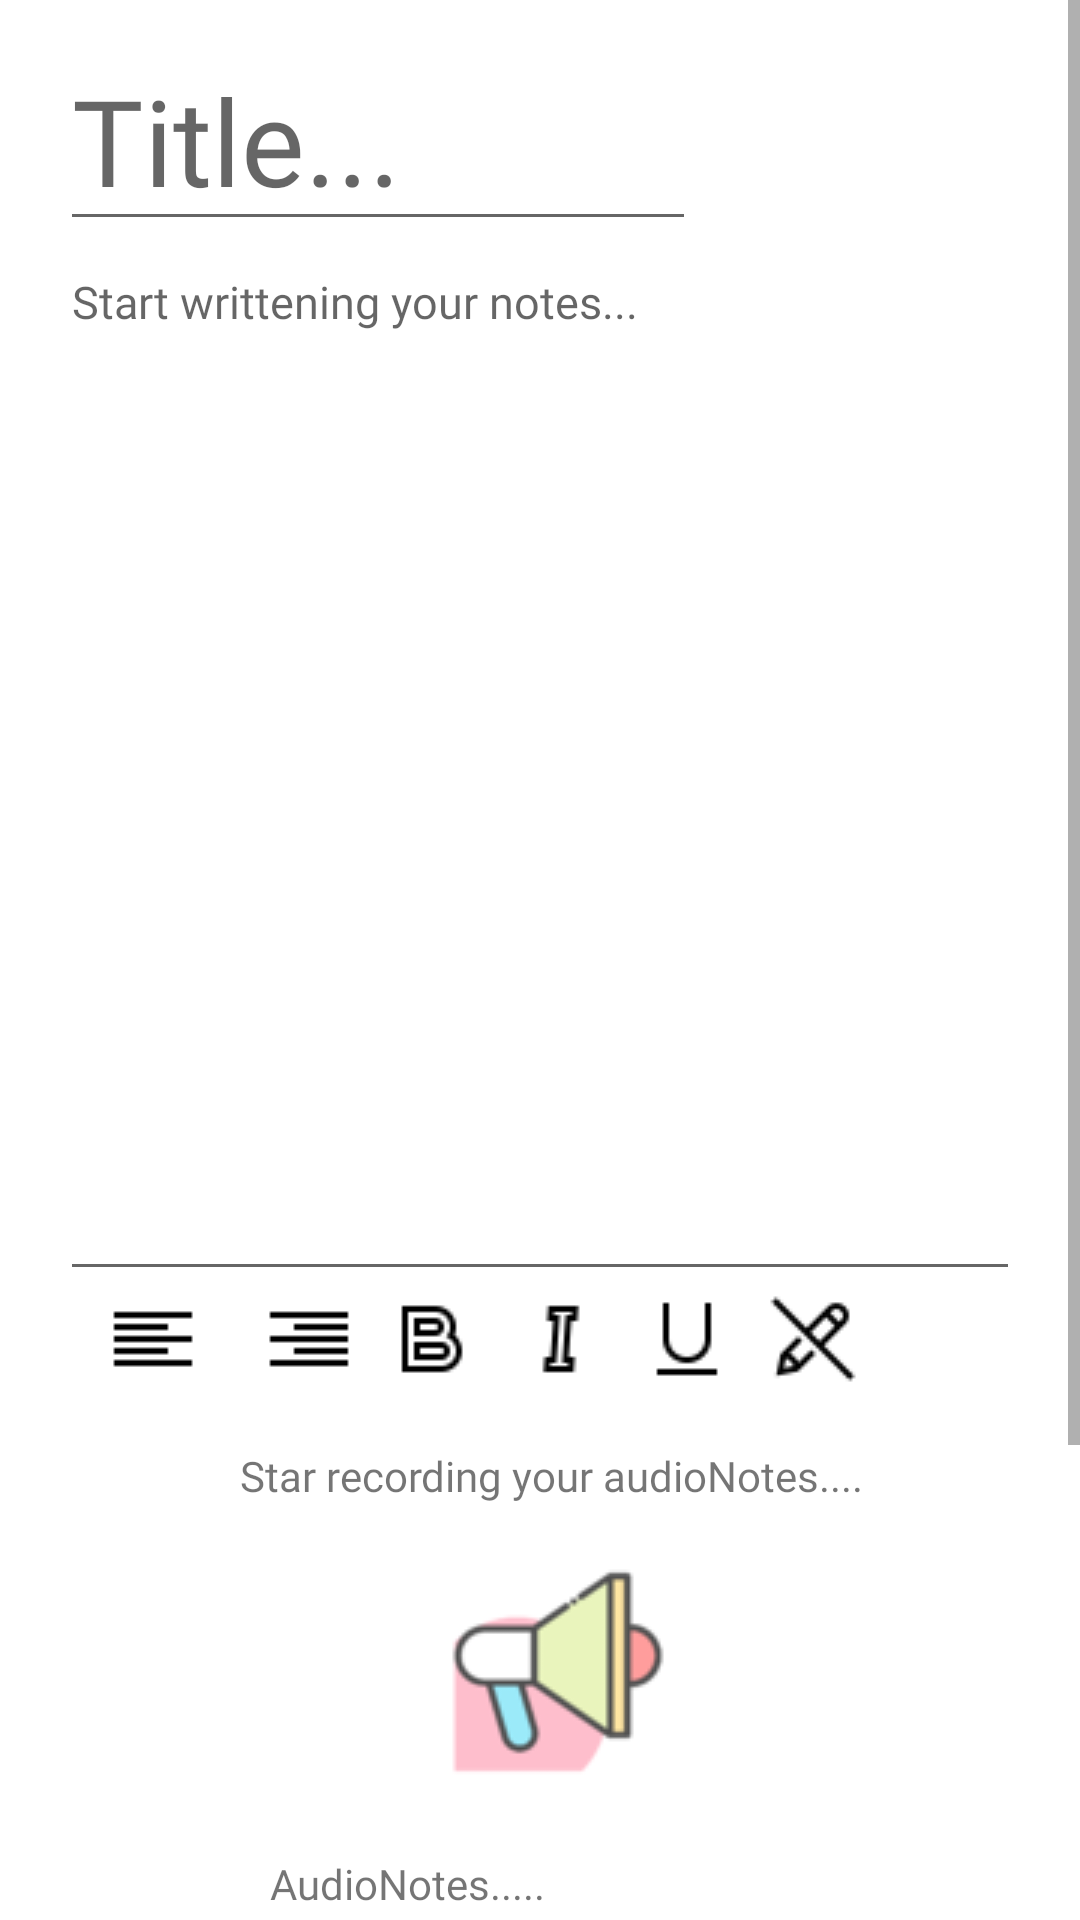

Icon click points for this 1080 × 1920 phone screenshot, format (x=x, y=y):
italic: (x=561, y=1339)
left: (x=153, y=1339)
noedit: (x=813, y=1339)
right: (x=309, y=1339)
underline: (x=687, y=1339)
